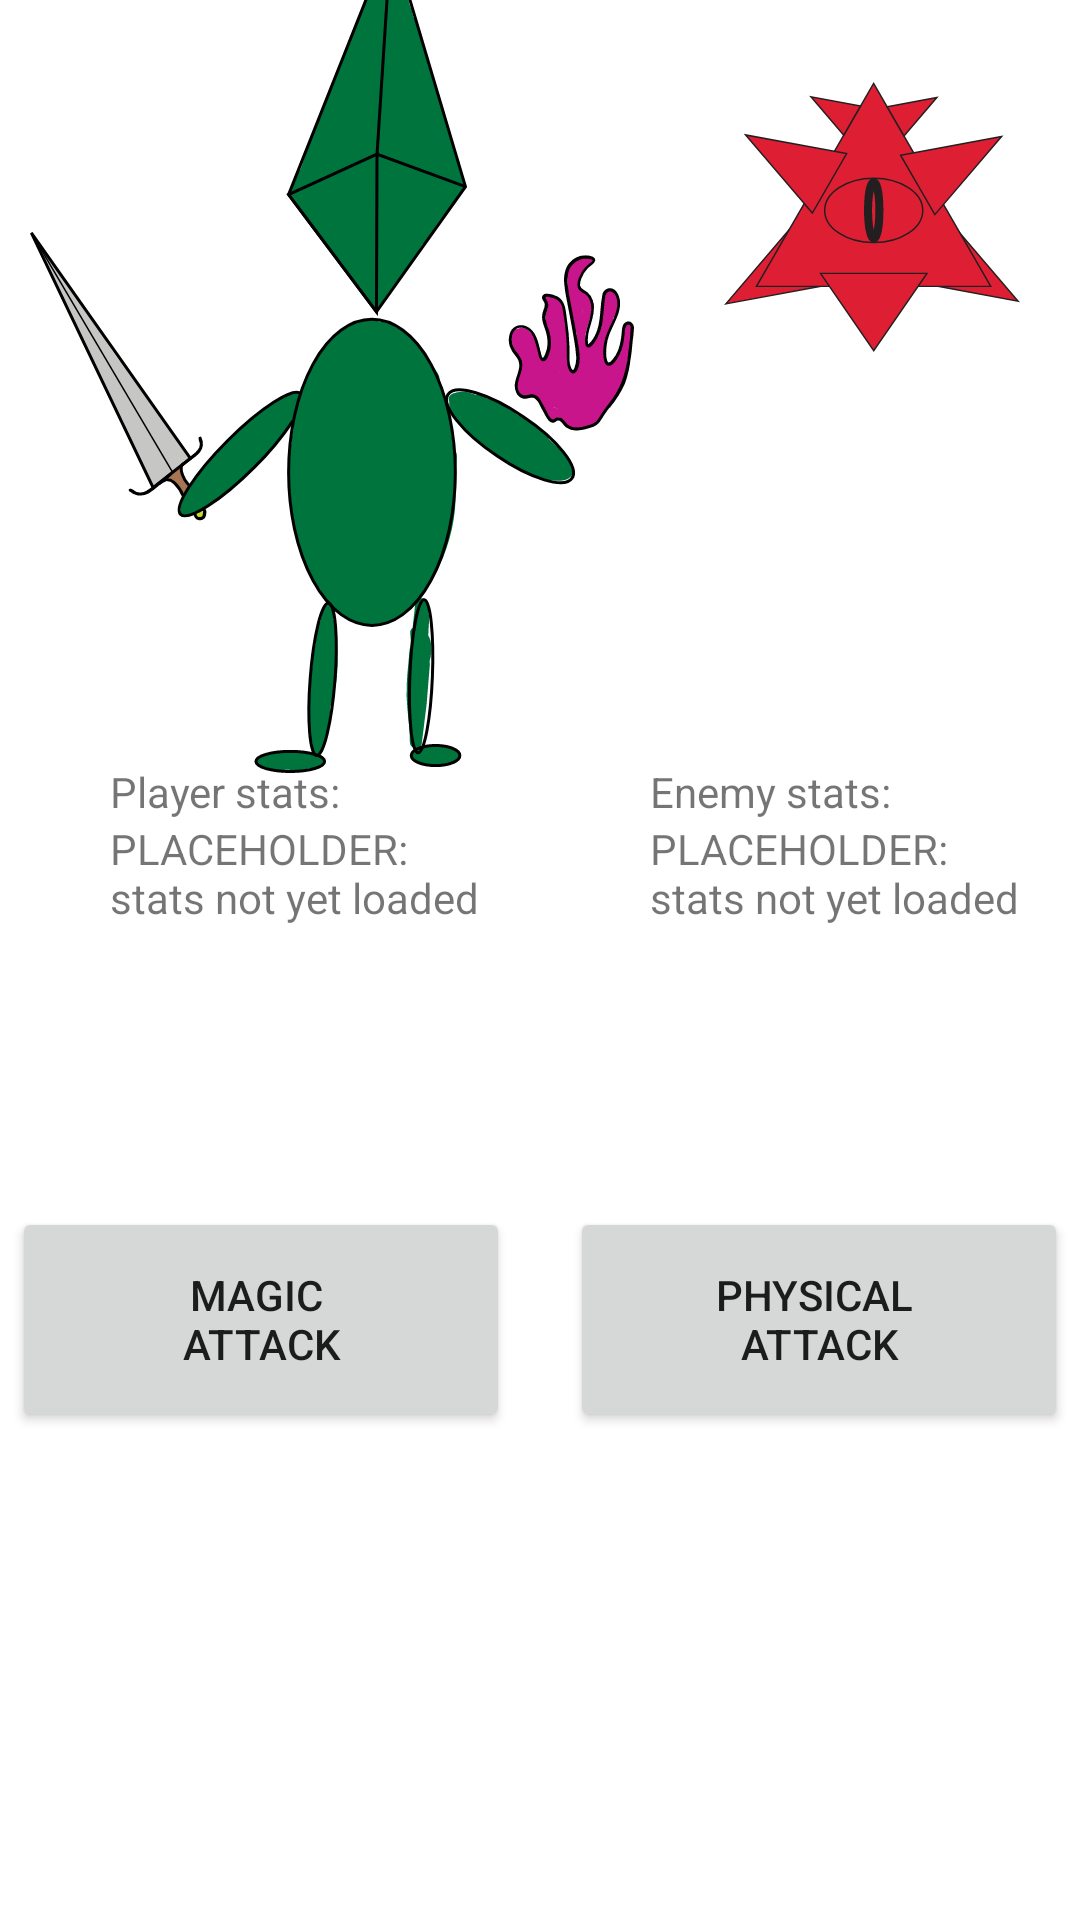

Icons on this 1080w x 1920h Android screen, each with the point to tap as [x,y]:
Enemy (image): [872,217]
